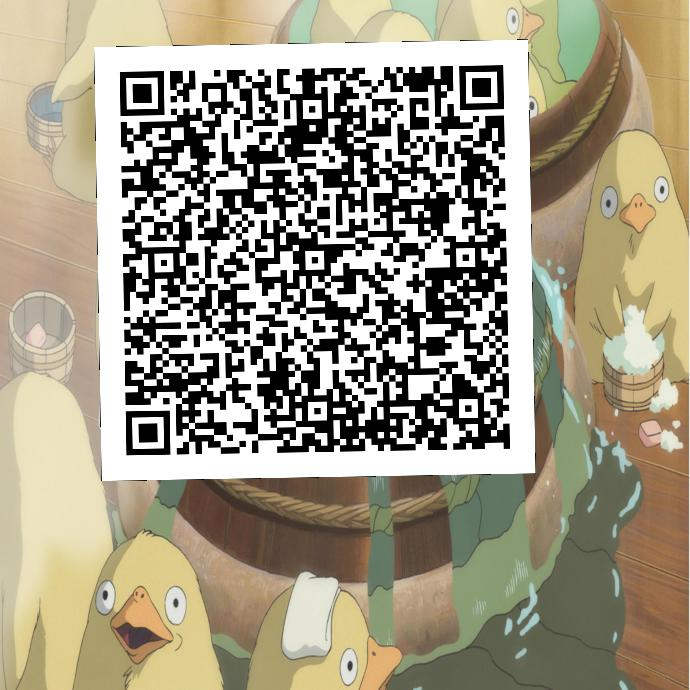qr_code: (94, 39, 535, 480)
